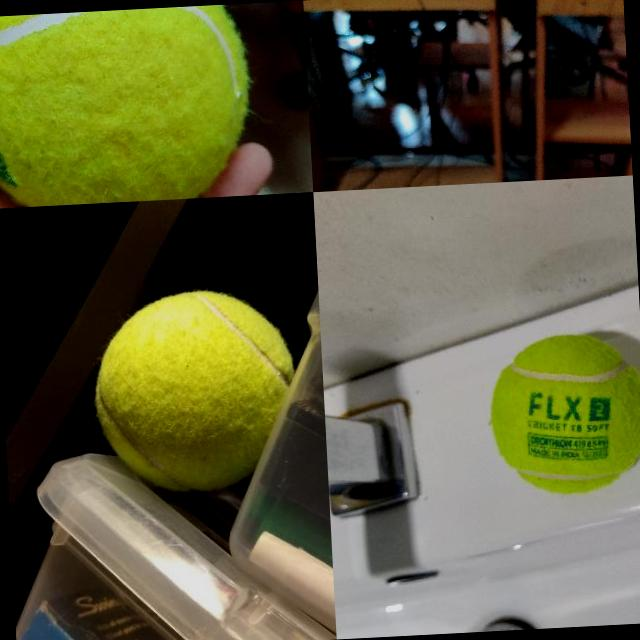tennis-ball: (0, 4, 253, 208), (89, 282, 268, 454), (483, 331, 640, 500)
